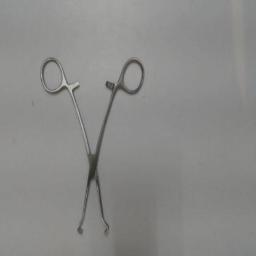Babcock Tissue Forceps: (38, 54, 148, 238)
